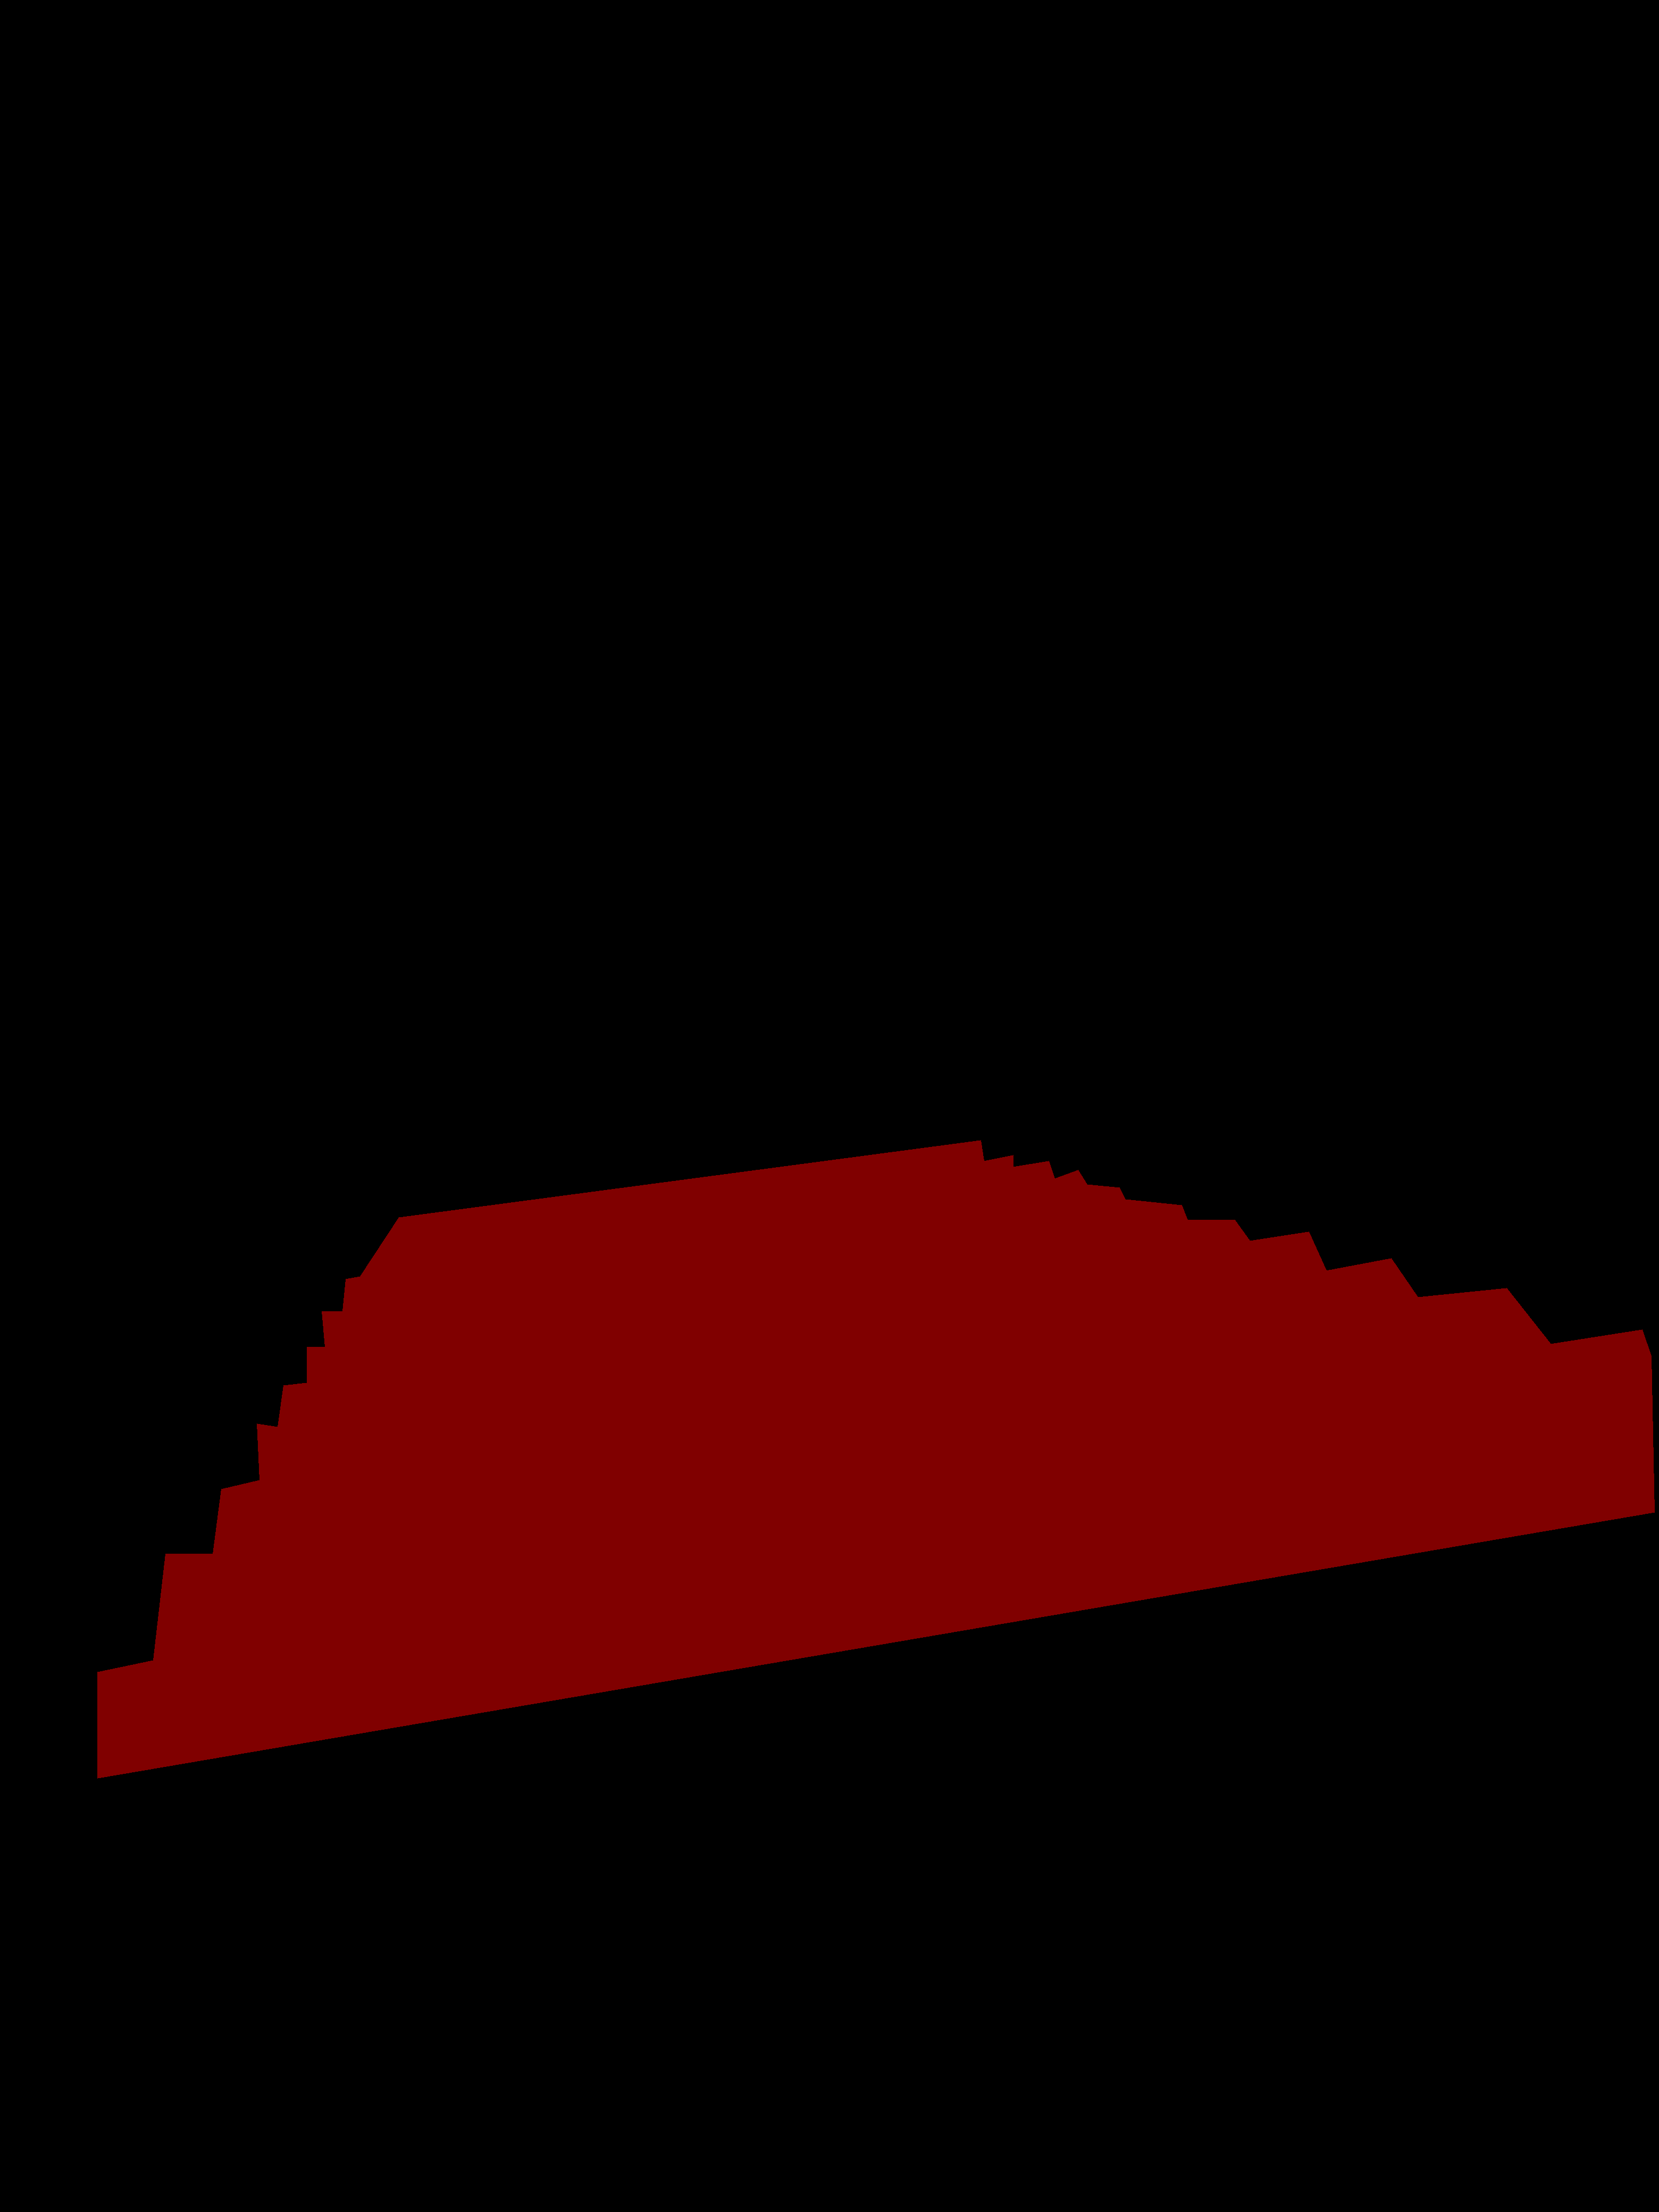stair: (98, 1141, 1654, 1778)
